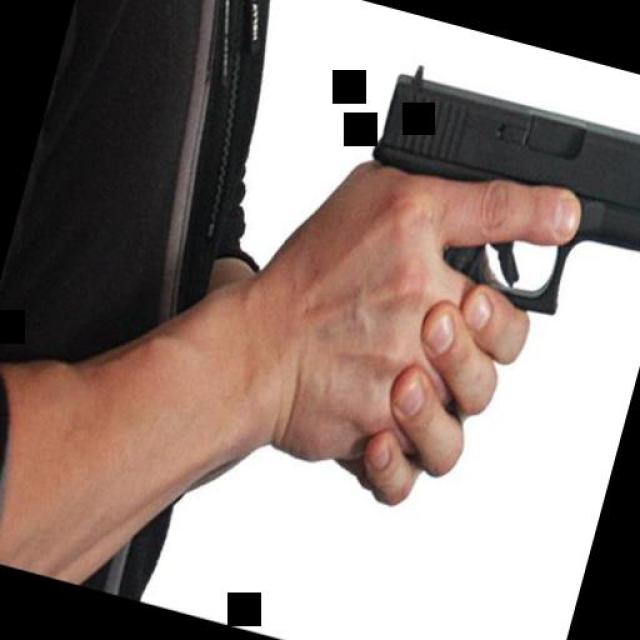gun: (339, 46, 640, 339)
